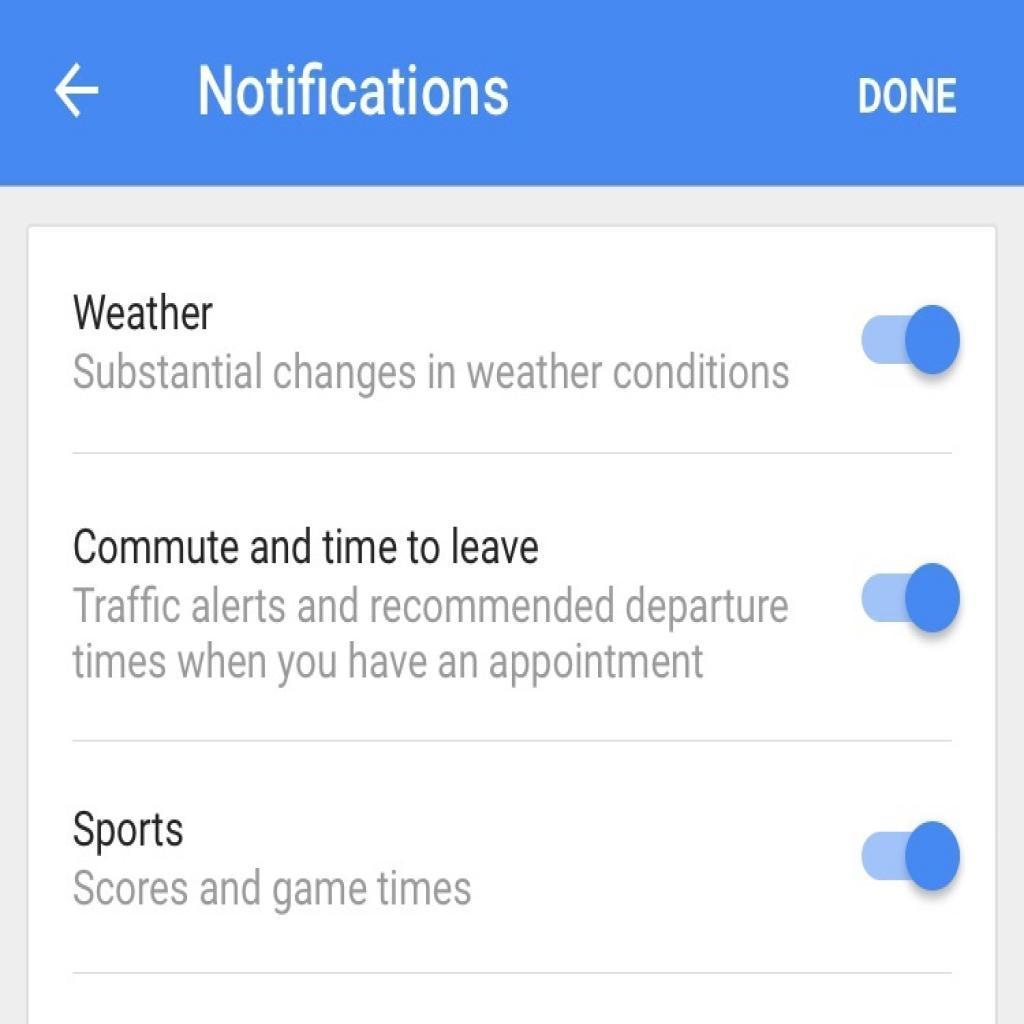switch: (845, 286, 965, 392), (857, 801, 972, 906), (858, 556, 973, 646)
